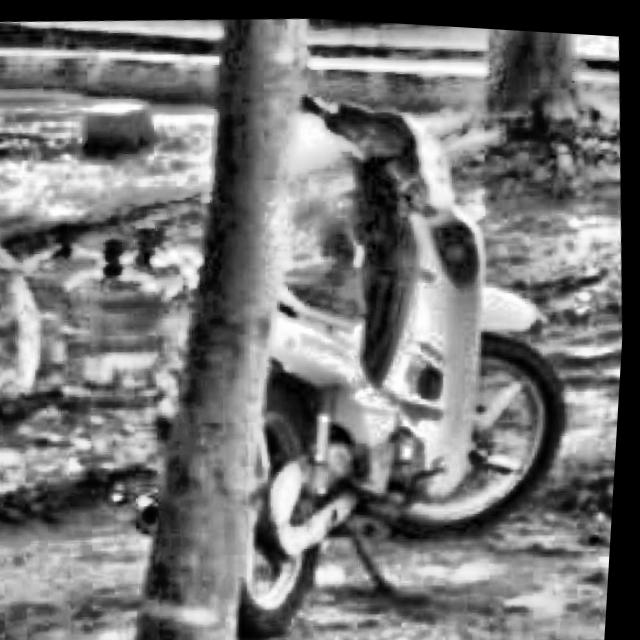motorcycle: (134, 48, 629, 640)
